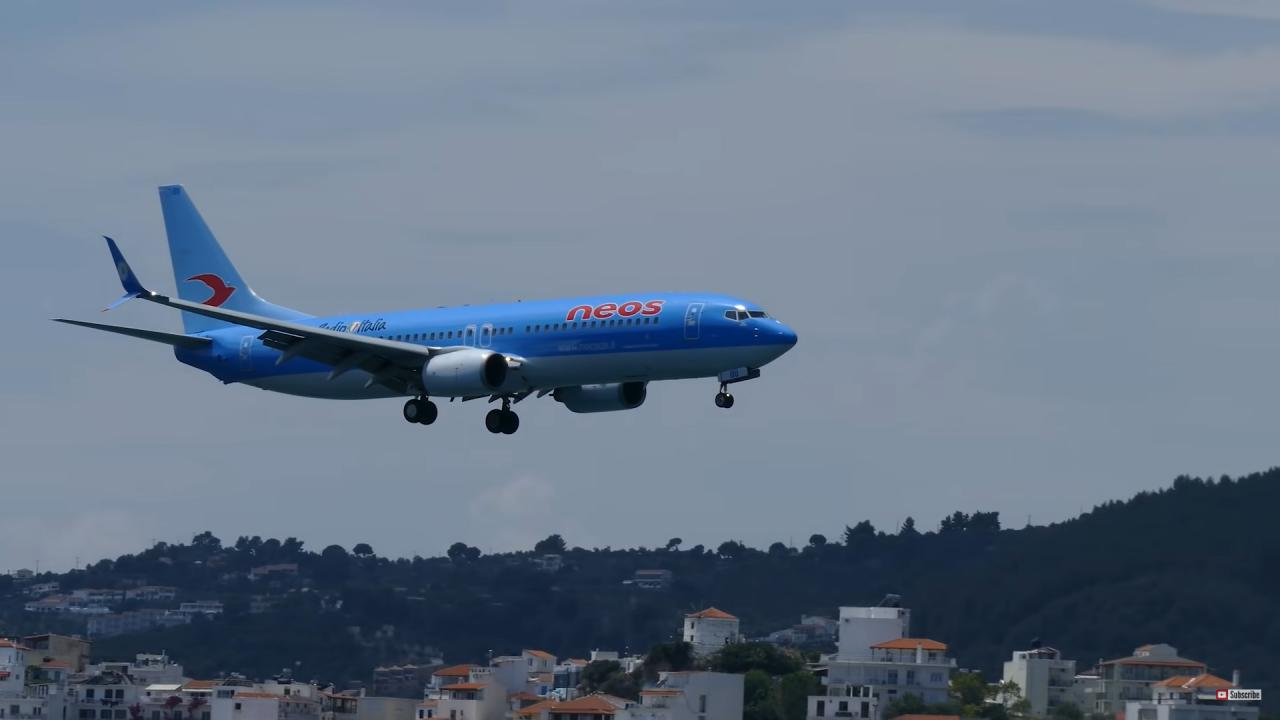Airplane: (51, 175, 809, 446)
